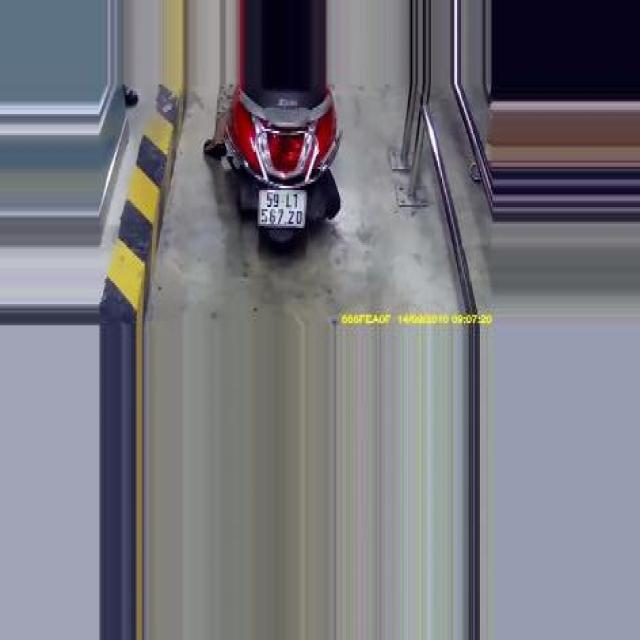licence: (258, 193, 313, 236)
